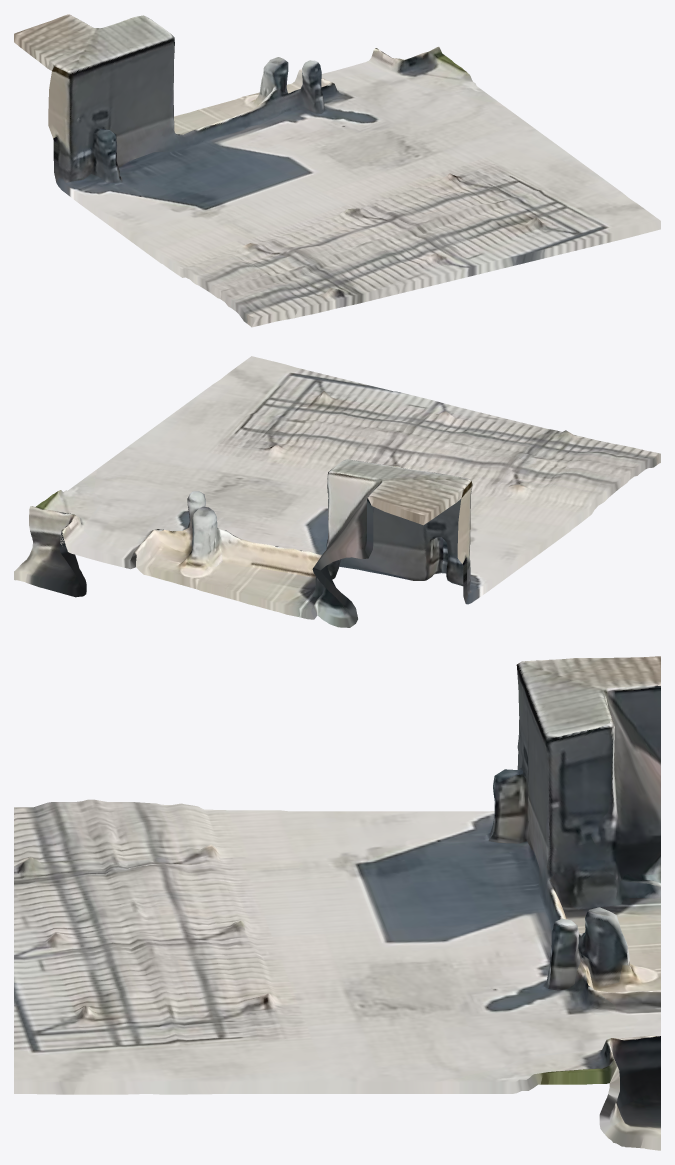
The model's file is z20-167753-405240-h0-yup-uvflip-v3-world.glb.
3 views of the same model, one above another, from view 1: azimuth 30°, elevation 25°; view 2: azimuth 150°, elevation 25°; view 3: azimuth 270°, elevation 25° (orthographic). The views are drawn at different scales.
Bounding box in the file's own units: 30.16 × 12.08 × 30.32.
1 material, 1 textured.
